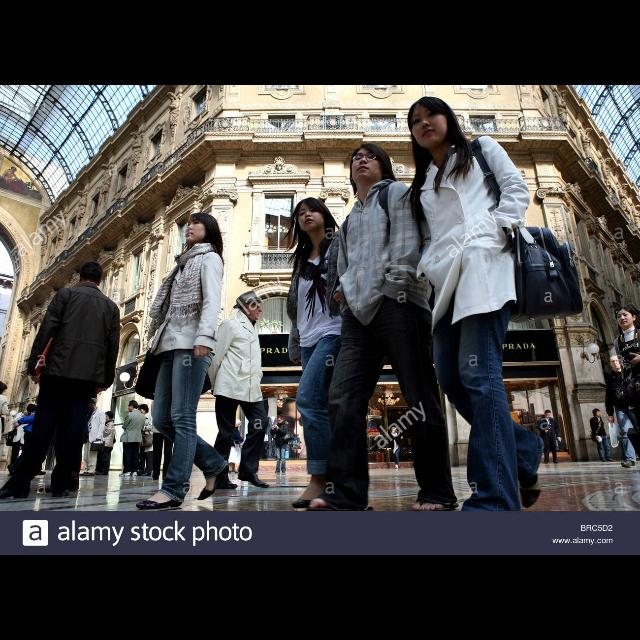head: (408, 96, 454, 150), (349, 144, 391, 182), (185, 212, 218, 245), (297, 198, 327, 232), (79, 262, 103, 290), (240, 298, 264, 322), (614, 306, 636, 330), (609, 355, 623, 371), (128, 400, 140, 414), (157, 385, 169, 397), (140, 404, 148, 416), (44, 406, 56, 414), (592, 409, 602, 418), (544, 410, 552, 420), (234, 420, 242, 430), (106, 412, 114, 422), (88, 401, 96, 411), (390, 426, 398, 434), (22, 405, 30, 413), (278, 416, 284, 426)
person: (396, 94, 586, 536), (301, 141, 463, 527), (0, 259, 124, 503), (277, 195, 369, 520), (133, 212, 231, 516), (202, 290, 274, 492), (6, 405, 62, 479), (148, 382, 178, 484), (7, 403, 43, 481), (76, 398, 108, 478), (119, 400, 148, 480), (132, 403, 156, 479), (92, 410, 118, 476), (588, 408, 618, 464), (535, 408, 563, 466), (270, 414, 296, 476), (226, 419, 247, 475), (386, 426, 404, 470)
